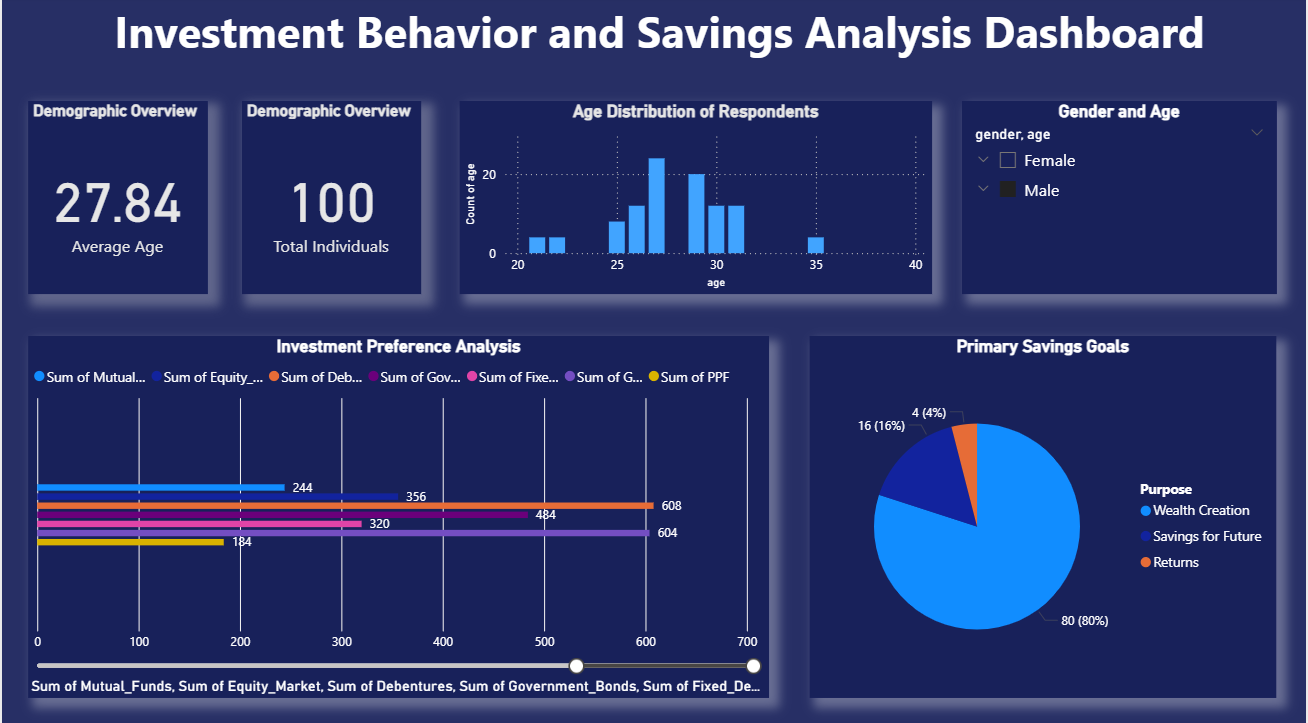

This screenshot's page, from the dashboard's own definition file:
{"tool":"powerbi","page":{"name":"Saving Analysis","canvas":[1280,720],"ordinal":0},"visuals":[{"type":"textbox","box":[70,0,1151.3,113.9],"z":0},{"type":"card","title":"Demographic Overview","fields":{"Values":["Data_set 2.Total Individuals"]},"box":[236,102.9,175.6,189.4],"z":1000},{"type":"card","title":"Demographic Overview","fields":{"Values":["Data_set 2.Average Age"]},"box":[26.1,102.9,175.6,189.4],"z":2000},{"type":"clusteredColumnChart","title":"Age Distribution of Respondents","fields":{"Category":["Data_set 2.age"],"Y":["CountNonNull(Data_set 2.age)"]},"box":[448.7,102.9,463.8,189.4],"z":3000},{"type":"clusteredBarChart","title":"Investment Preference Analysis","fields":{"Y":["Sum(Data_set 2.Mutual_Funds)","Sum(Data_set 2.Equity_Market)","Sum(Data_set 2.Debentures)","Sum(Data_set 2.Government_Bonds)","Sum(Data_set 2.Fixed_Deposits)","Sum(Data_set 2.Gold)","Sum(Data_set 2.PPF)"]},"box":[26.1,333.4,727.3,355.4],"z":4000},{"type":"pieChart","title":"Primary Savings Goals","fields":{"Category":["Data_set 2.Purpose"],"Y":["CountNonNull(Data_set 2.Purpose)"]},"box":[793.1,333.4,458.3,355.4],"z":5000},{"type":"slicer","title":"Gender and Age","fields":{"Values":["Data_set 2.gender","Data_set 2.age"]},"box":[942.7,102.9,308.7,189.4],"z":6000}]}

Visuals, with their boxes in screenshot pixels (x1, y1, x2, y2), scaled from the page's 1280x720 canvas onto the 1308x723 screenshot:
textbox: region(72, 0, 1248, 114)
"Demographic Overview" card: region(241, 103, 421, 294)
"Demographic Overview" card: region(27, 103, 206, 294)
"Age Distribution of Respondents" clusteredColumnChart: region(459, 103, 932, 294)
"Investment Preference Analysis" clusteredBarChart: region(27, 335, 770, 692)
"Primary Savings Goals" pieChart: region(810, 335, 1279, 692)
"Gender and Age" slicer: region(963, 103, 1279, 294)
